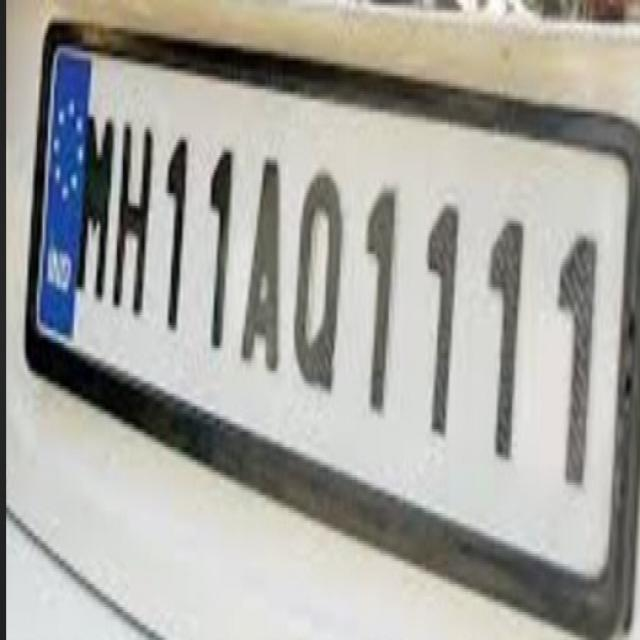1: (552, 218, 600, 506), (421, 191, 468, 454), (484, 195, 527, 470), (358, 178, 399, 422), (197, 139, 240, 357), (150, 124, 193, 340)
A: (235, 140, 288, 377)
H: (108, 122, 158, 323)
M: (71, 93, 117, 306)
Q: (286, 157, 351, 402)
